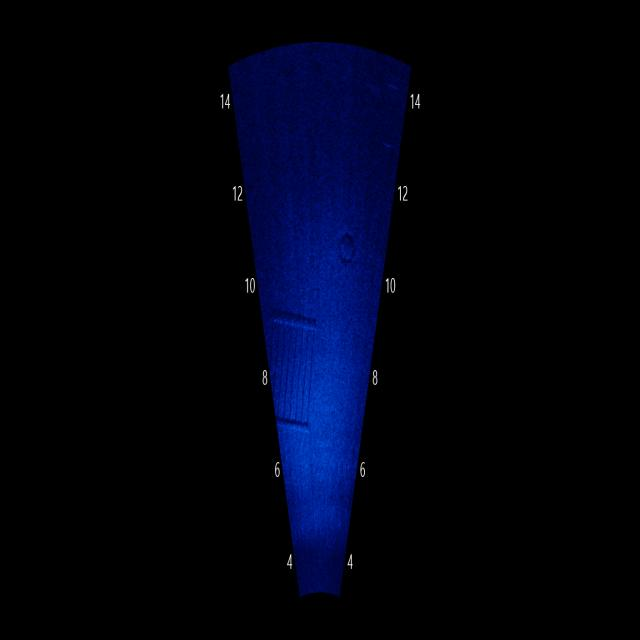square: (267, 292, 320, 440)
